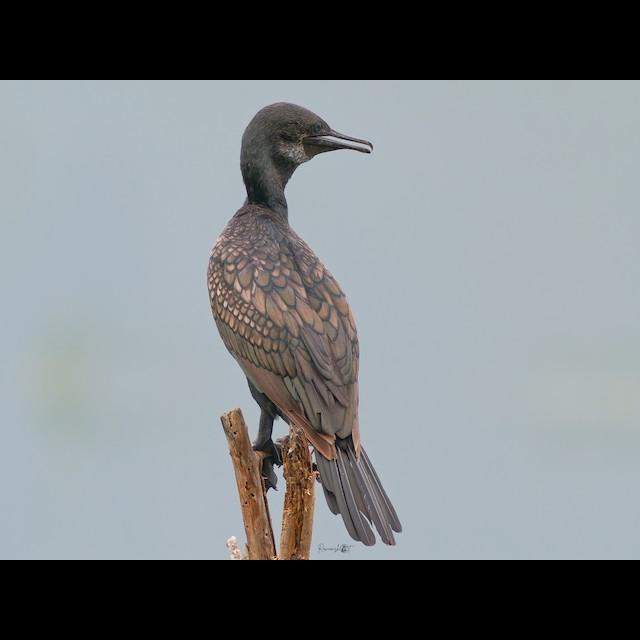cormorant: (203, 100, 424, 544)
